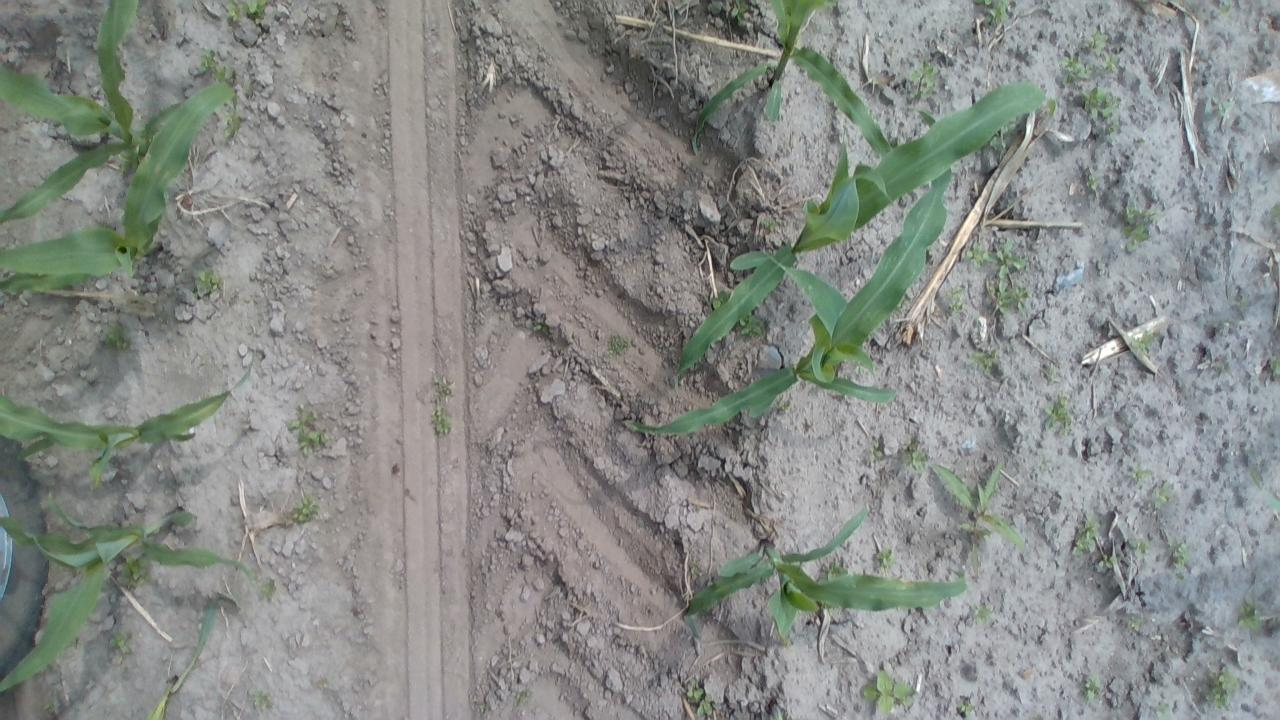Maize: (659, 65, 1057, 394), (616, 224, 948, 443), (0, 492, 256, 710), (0, 82, 235, 296), (1, 0, 202, 225), (686, 501, 974, 643), (684, 4, 897, 178), (0, 354, 257, 490), (150, 586, 232, 717)
Weeds: (937, 459, 1027, 570), (977, 241, 1031, 316), (862, 668, 916, 716), (1120, 202, 1163, 255), (289, 404, 332, 456), (1041, 391, 1078, 439), (1078, 84, 1121, 122), (1204, 664, 1240, 709), (904, 61, 940, 102), (1248, 466, 1280, 512), (118, 554, 154, 592), (682, 676, 716, 716), (223, 0, 270, 28), (1070, 514, 1100, 556), (1058, 55, 1098, 85), (105, 628, 138, 663), (288, 492, 320, 526), (902, 440, 932, 476), (98, 322, 134, 352), (192, 268, 224, 299), (1234, 598, 1264, 630), (959, 240, 995, 266), (966, 598, 996, 629), (976, 0, 1010, 27), (968, 346, 1001, 373), (218, 107, 242, 143), (944, 284, 970, 317), (1166, 538, 1192, 570), (738, 313, 766, 340), (1080, 671, 1104, 702), (720, 0, 750, 23), (874, 546, 898, 574), (1130, 330, 1158, 354), (432, 403, 452, 436), (1084, 32, 1110, 57), (1126, 462, 1154, 484), (822, 560, 854, 578), (607, 334, 629, 358), (1150, 483, 1172, 507), (248, 688, 274, 708), (259, 576, 279, 602), (1080, 172, 1102, 195), (953, 694, 976, 716), (210, 64, 233, 86), (1128, 537, 1152, 558), (1096, 550, 1118, 572), (432, 376, 454, 398), (196, 49, 216, 73), (510, 688, 534, 708), (710, 286, 730, 310), (866, 442, 887, 464), (1098, 50, 1119, 72), (1122, 613, 1146, 632), (474, 696, 494, 717), (1209, 98, 1229, 118), (1044, 360, 1062, 382), (1153, 700, 1174, 718), (120, 156, 140, 174), (1218, 1, 1236, 20), (986, 132, 1004, 150), (760, 216, 778, 234), (999, 118, 1018, 135), (532, 318, 548, 338), (766, 706, 788, 720), (311, 676, 330, 690), (1270, 352, 1280, 378), (820, 600, 836, 616), (1236, 294, 1250, 310), (41, 698, 54, 712), (1038, 458, 1052, 471), (1269, 201, 1280, 216), (1106, 126, 1122, 136), (242, 83, 254, 94), (1217, 363, 1226, 373), (690, 564, 699, 574), (1138, 139, 1144, 147)
